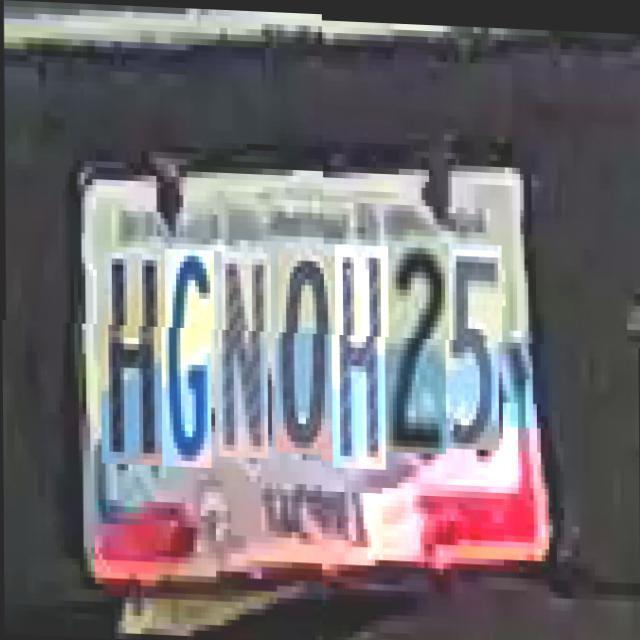2: (388, 237, 450, 450)
5: (448, 239, 502, 446)
G: (164, 253, 214, 472)
H: (104, 256, 166, 470), (335, 241, 389, 466)
N: (222, 255, 272, 462)
O: (278, 251, 336, 458)
